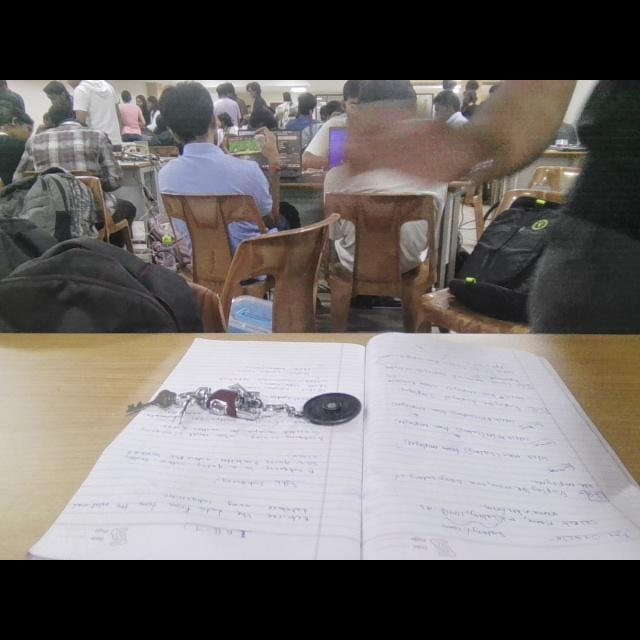keys: (122, 374, 366, 440)
